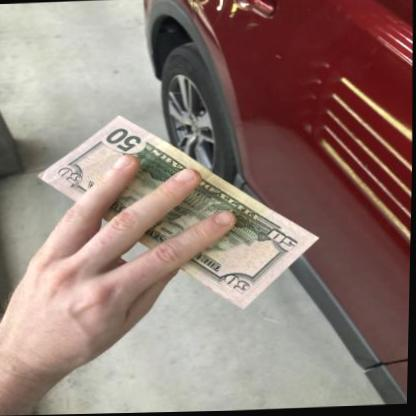fifty-back: (38, 114, 319, 311)
